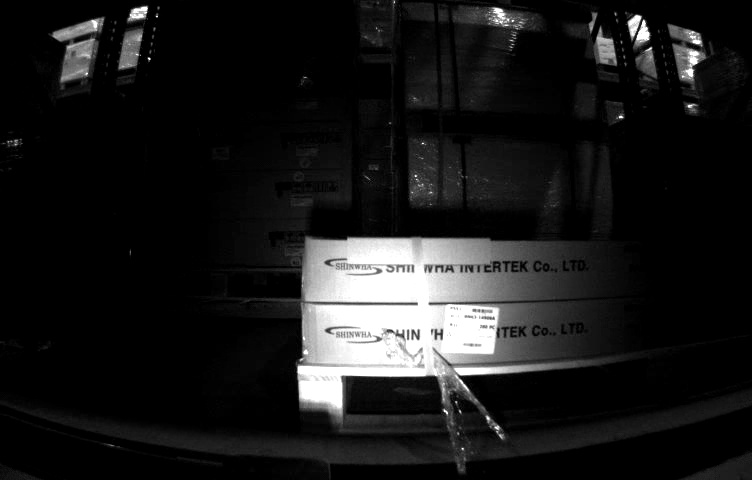True Barcode: (440, 302, 498, 355)
